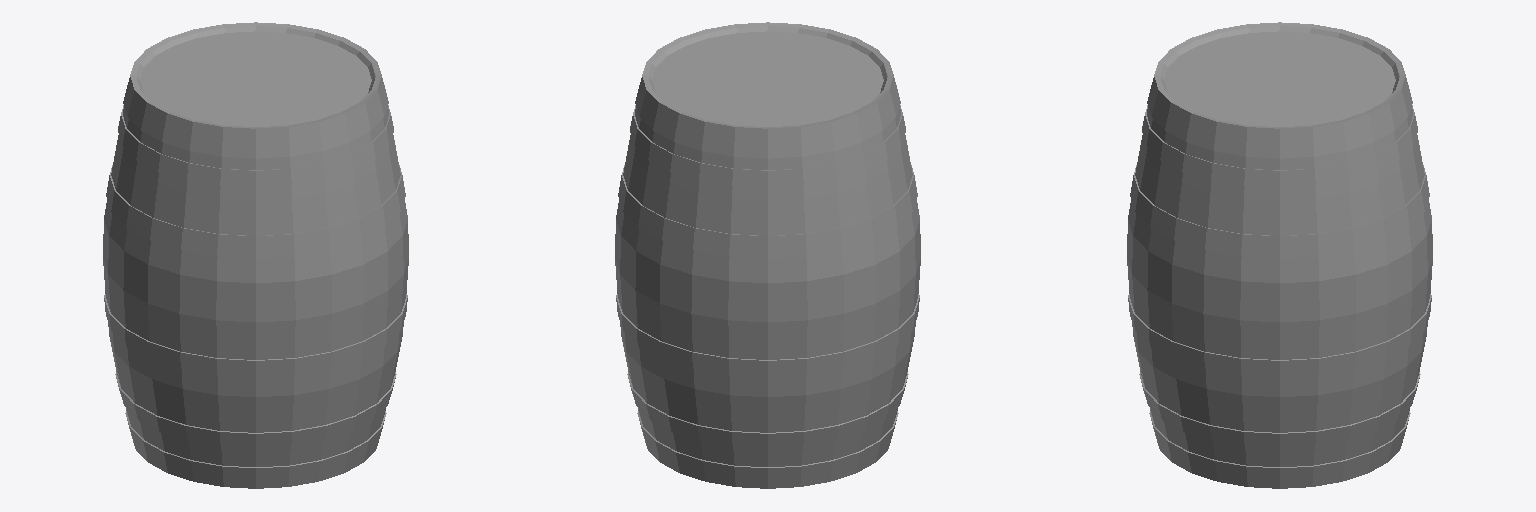
3 views of the same model, side by side, from view 1: azimuth 30°, elevation 25°; view 2: azimuth 150°, elevation 25°; view 3: azimuth 270°, elevation 25° (orthographic).
Parts seen in each view (by area): view 1: wood, metal; view 2: wood, metal; view 3: wood, metal.
Part boxes in pixels (x1,y1,x2,y2): wood: (103, 23, 408, 466); metal: (104, 22, 407, 488); wood: (615, 23, 920, 466); metal: (616, 22, 919, 488); wood: (1127, 23, 1432, 466); metal: (1128, 22, 1431, 488).
Size of the model in its own units: 0.7509 by 0.9764 by 0.7509.